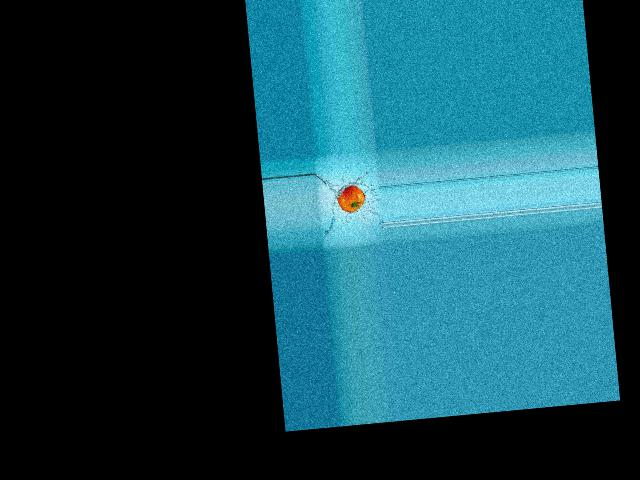tomato: (336, 183, 366, 213)
